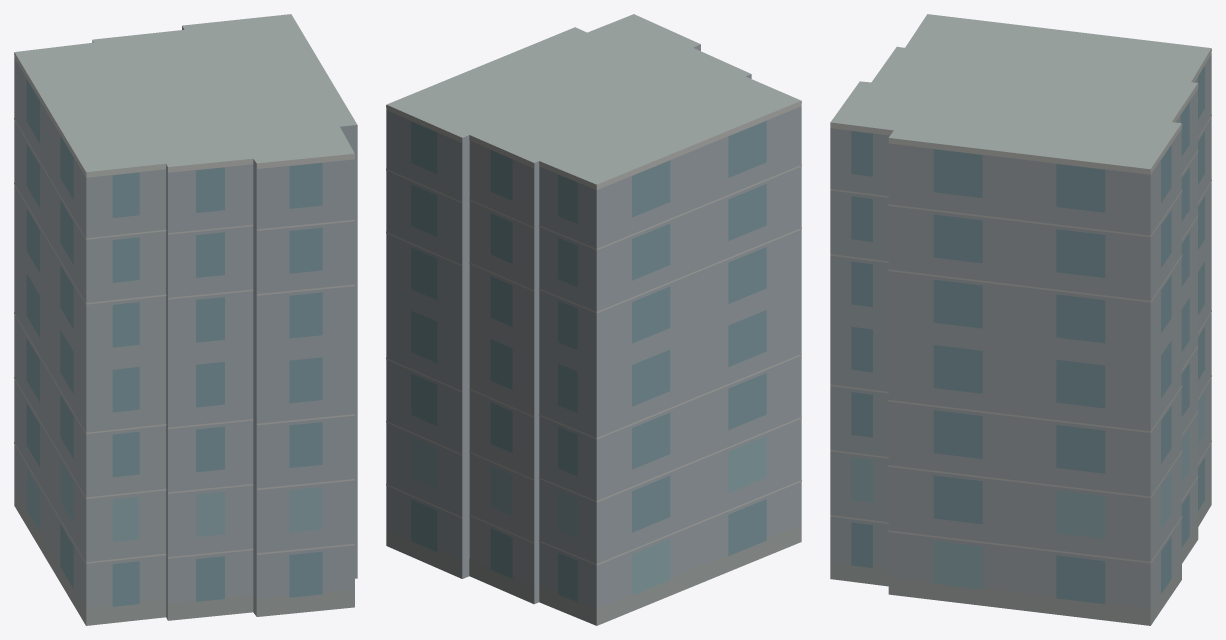
Rendered from survey-upis-33015582.glb.
The picture shows the model from 3 angles, left to right: view 1: azimuth 30°, elevation 25°; view 2: azimuth 150°, elevation 25°; view 3: azimuth 270°, elevation 25°; orthographic projection. The views are drawn at different scales.
Visible parts, largest first — view 1: survey-upis-33015582.tmp; view 2: survey-upis-33015582.tmp; view 3: survey-upis-33015582.tmp.
Part boxes in pixels (x1,y1,x2,y2): survey-upis-33015582.tmp: [14, 14, 357, 625]; survey-upis-33015582.tmp: [386, 14, 801, 625]; survey-upis-33015582.tmp: [830, 14, 1211, 625].
Bounding box in the file's own units: 14.46 × 19.8 × 15.01.
